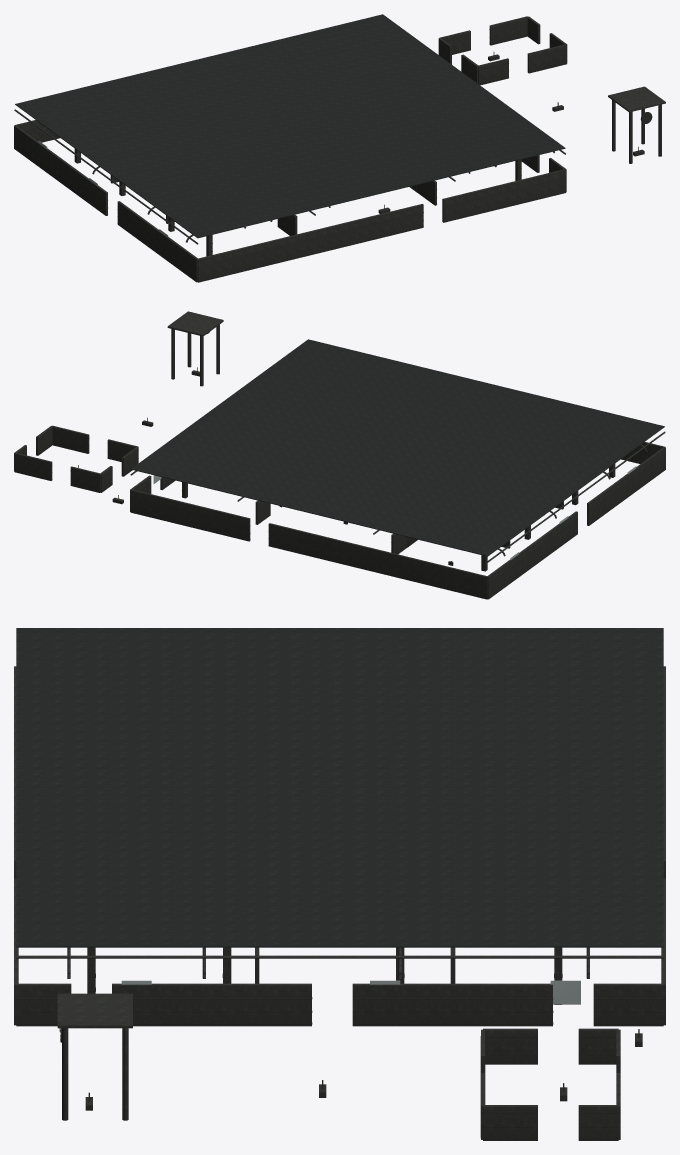
The model's file is v03-environment.glb.
3 renders of one model, top to bottom at view 1: azimuth 30°, elevation 25°; view 2: azimuth 150°, elevation 25°; view 3: azimuth 270°, elevation 25°, orthographic. The views are drawn at different scales.
Visible parts, largest first — view 1: Roof_stone.001, Environment_stone.010; view 2: Roof_stone.001, Environment_stone.010; view 3: Roof_stone.001, Environment_stone.010, Environment_glass.006.
Boxes of the visible parts, box(x1,y1,x2,y2) form: Roof_stone.001: box(15, 14, 565, 238); Environment_stone.010: box(14, 16, 665, 282); Roof_stone.001: box(131, 339, 664, 556); Environment_stone.010: box(14, 311, 665, 599); Roof_stone.001: box(16, 628, 663, 947); Environment_stone.010: box(14, 666, 665, 1140); Environment_glass.006: box(121, 980, 580, 1004).
Size of the model in its own units: 137 by 14.2 by 86.6.
4 materials, 3 textured.
